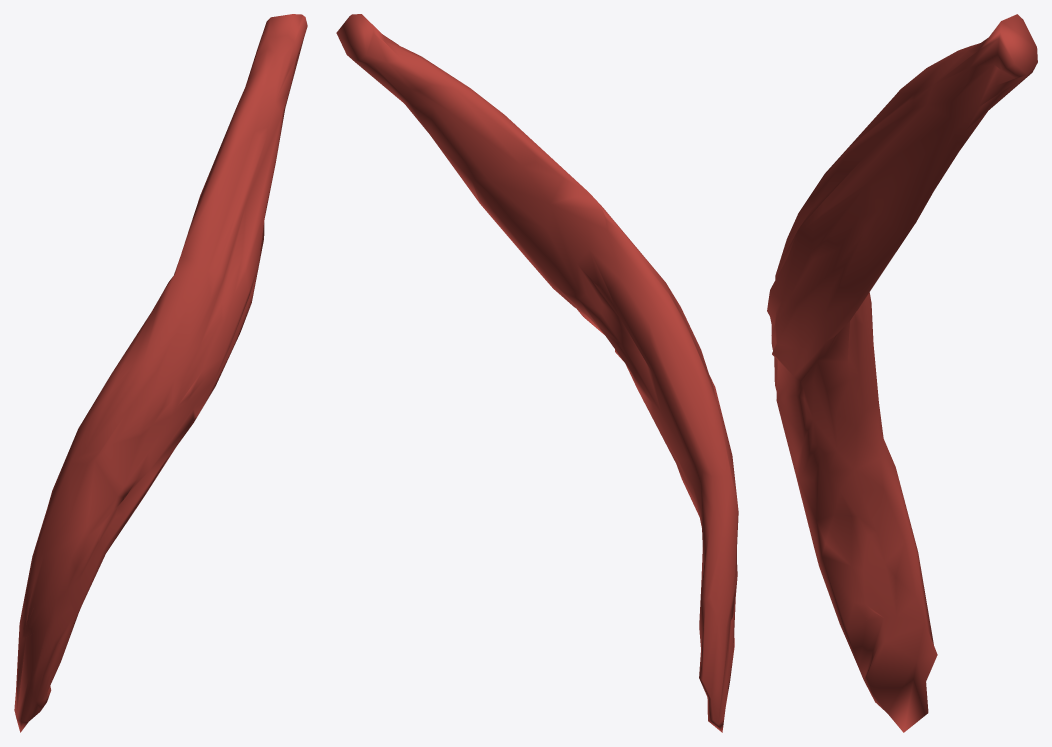
The model's file is musculos-deep-head-of-pronator-teres-r.glb.
3 views of the same model, side by side, from view 1: azimuth 30°, elevation 25°; view 2: azimuth 150°, elevation 25°; view 3: azimuth 270°, elevation 25° (orthographic). The views are drawn at different scales.
Visible parts, largest first — view 1: Deep head of pronator teres.r; view 2: Deep head of pronator teres.r; view 3: Deep head of pronator teres.r.
Part boxes in pixels (bbox=[...]): Deep head of pronator teres.r: bbox=[14, 14, 307, 732]; Deep head of pronator teres.r: bbox=[336, 14, 738, 732]; Deep head of pronator teres.r: bbox=[767, 14, 1037, 732].
Bounding box in the file's own units: 0.0537 × 0.0971 × 0.0255.
